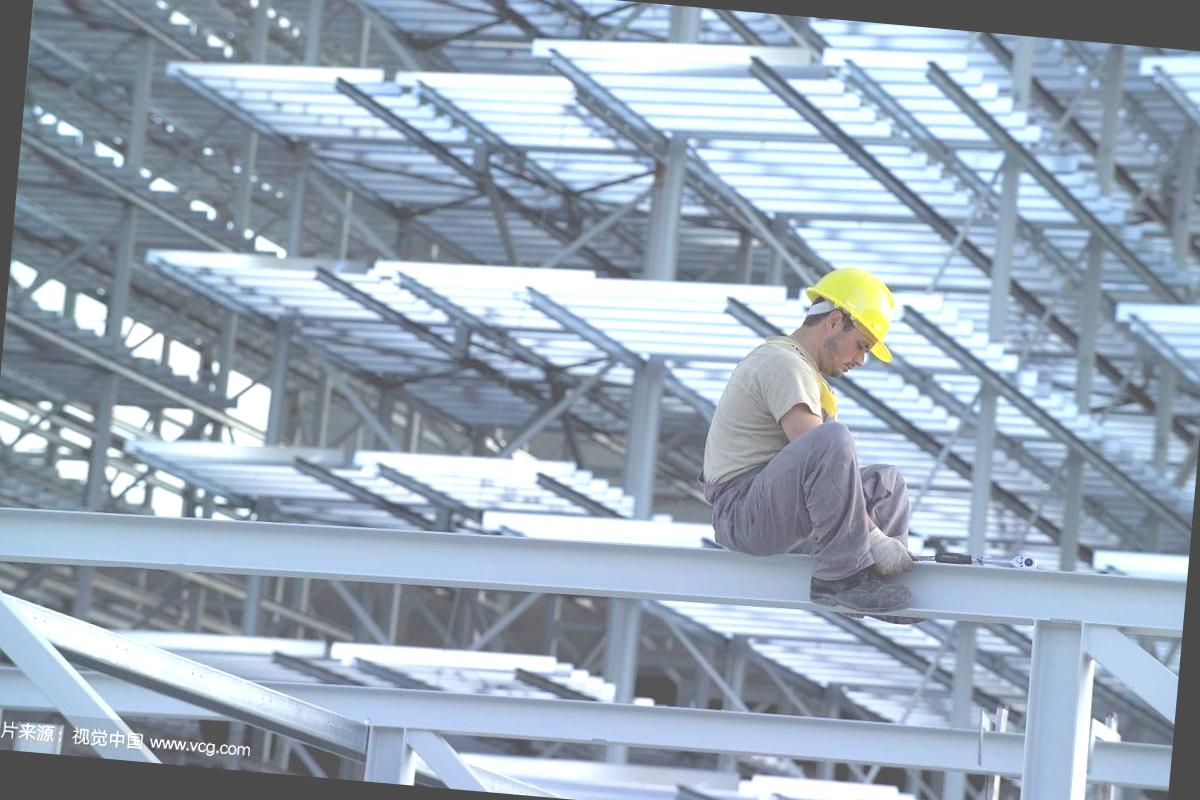helmet: (788, 260, 907, 370)
no_vest: (700, 334, 862, 502)
person: (684, 251, 950, 618)
